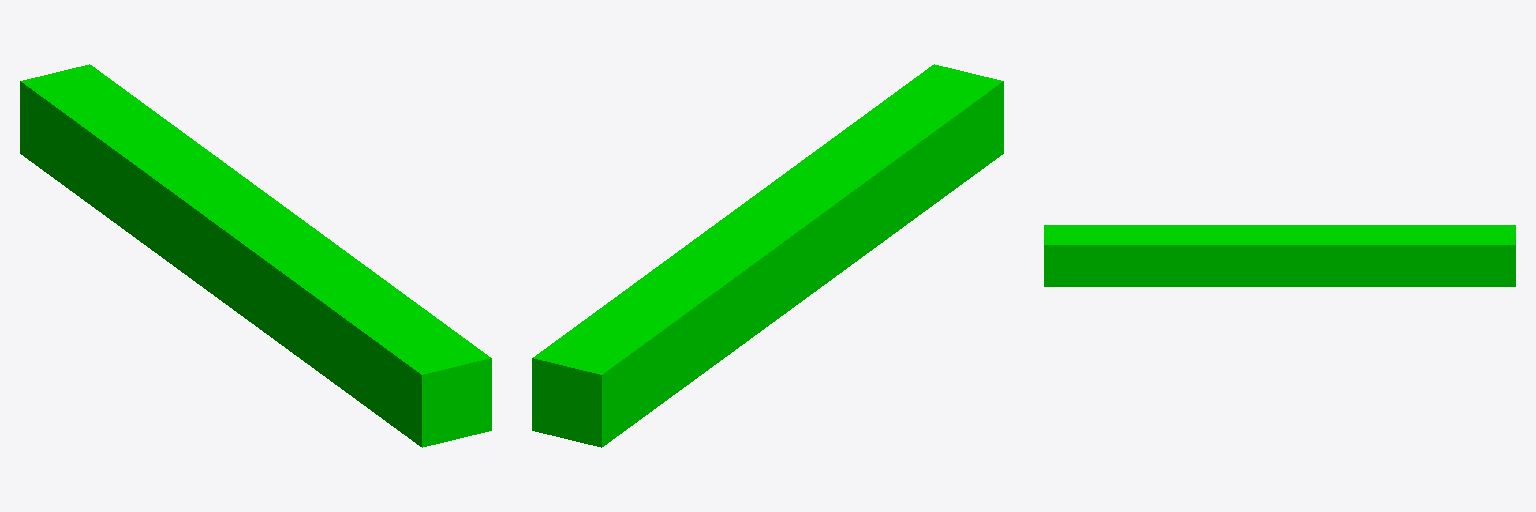
robot.urdf — simpleblock2:
<?xml version="1.0"?> 
<robot name="simpleblock2">
    <!-- Colors --> 
    <material name="green">
        <color rgba="0 0.925 0 1"/>
    </material>

    <!-- Goal -->
    <link name="base_link">
        <visual>
            <geometry>
                <box size=".5 5 0.5"/>
                <origin rpy="0 0 0" xyz="0 0 0.25"/>
            </geometry>
            <material name="green"/>
        </visual>
        <collision> 
			<geometry> 
                <box size=".5 5 0.5"/>
                <origin rpy="0 0 0" xyz="0 0 0.25"/>
             </geometry>
        </collision> 
        <inertial> 
            <mass value="0"/>
            <inertia ixx="0" ixy="0" ixz="0" iyy="0" iyz="0" izz="0"/>
        </inertial> 
    </link>
</robot>

--- Render facts (derived) ---
3 views of the same robot in one strip: view 1: azimuth 30°, elevation 25°; view 2: azimuth 150°, elevation 25°; view 3: azimuth 270°, elevation 25° (orthographic).
Robot: simpleblock2 — 1 links, 0 joints (none); root link base_link; default pose: every joint at zero.
Visible links, largest first — view 1: base_link; view 2: base_link; view 3: base_link.
Boxes of the visible links, box(x1,y1,x2,y2) form: base_link: box(20, 64, 491, 447); base_link: box(532, 64, 1003, 447); base_link: box(1044, 225, 1515, 286).
Bounding box of the posed robot: 0.5 × 5 × 0.5 m (x, y, z).
Geometry: primitives only (box / cylinder / sphere), no mesh files.